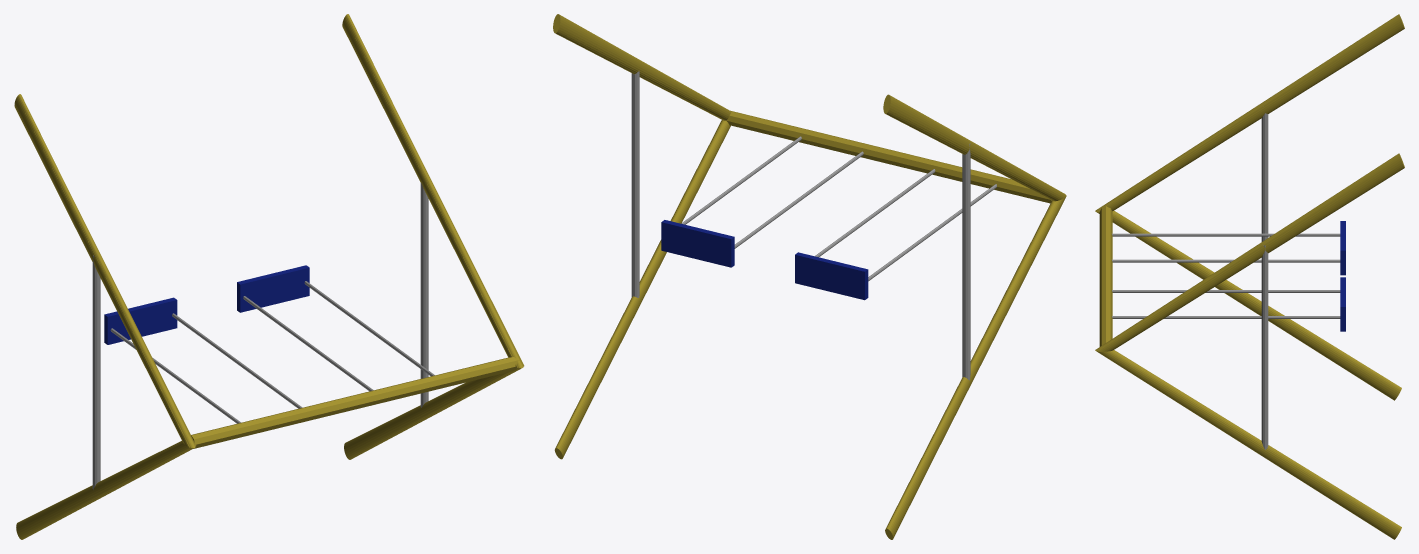
File: columpio.obj
The picture shows the model from 3 angles, left to right: view 1: azimuth 30°, elevation 25°; view 2: azimuth 150°, elevation 25°; view 3: azimuth 270°, elevation 25°; orthographic projection. The views are drawn at different scales.
Visible parts, largest first — view 1: Mesh.001_H3_Swing_YELLOW_PLASTIC, Mesh.001_H3_Swing_WHITE_PLASTIC, Mesh.001_H3_Swing_BLUE_PLASTIC; view 2: Mesh.001_H3_Swing_YELLOW_PLASTIC, Mesh.001_H3_Swing_WHITE_PLASTIC, Mesh.001_H3_Swing_BLUE_PLASTIC; view 3: Mesh.001_H3_Swing_YELLOW_PLASTIC, Mesh.001_H3_Swing_WHITE_PLASTIC, Mesh.001_H3_Swing_BLUE_PLASTIC.
Part boxes in pixels (box(x1,y1,x2,y2)): Mesh.001_H3_Swing_YELLOW_PLASTIC: box(14, 14, 524, 539); Mesh.001_H3_Swing_WHITE_PLASTIC: box(92, 183, 434, 489); Mesh.001_H3_Swing_BLUE_PLASTIC: box(104, 265, 309, 344); Mesh.001_H3_Swing_YELLOW_PLASTIC: box(553, 14, 1066, 539); Mesh.001_H3_Swing_WHITE_PLASTIC: box(631, 71, 996, 380); Mesh.001_H3_Swing_BLUE_PLASTIC: box(661, 220, 868, 300); Mesh.001_H3_Swing_YELLOW_PLASTIC: box(1095, 14, 1404, 539); Mesh.001_H3_Swing_WHITE_PLASTIC: box(1112, 113, 1340, 449); Mesh.001_H3_Swing_BLUE_PLASTIC: box(1340, 221, 1345, 331).
Bounding box in the file's own units: 107 × 135 × 97.94.
